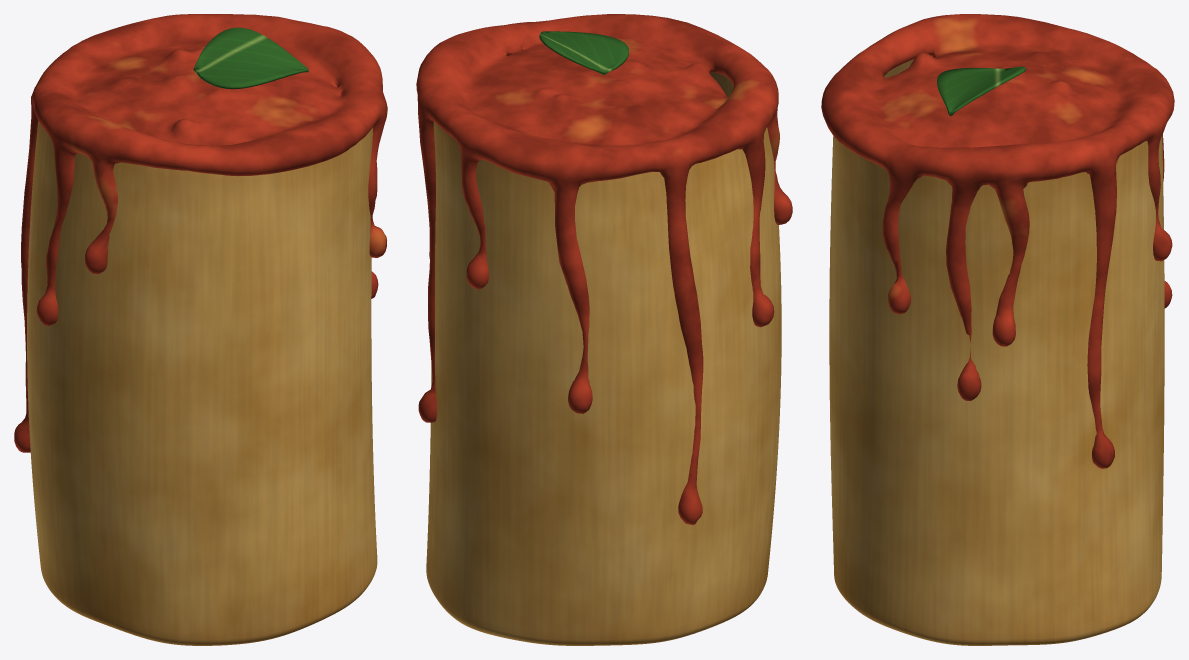
File: ziti.glb
3 renders of one model, left to right at view 1: azimuth 30°, elevation 25°; view 2: azimuth 150°, elevation 25°; view 3: azimuth 270°, elevation 25°, orthographic.
Parts seen in each view (by area): view 1: ZitiBody, Sauce; view 2: ZitiBody, Sauce; view 3: ZitiBody, Sauce.
Boxes of the visible parts, x1,y1,x2,y2 form: ZitiBody: (27, 121, 377, 645); Sauce: (14, 14, 387, 452); ZitiBody: (426, 72, 781, 645); Sauce: (416, 14, 792, 524); ZitiBody: (829, 56, 1164, 645); Sauce: (821, 14, 1174, 468).
Size of the model in its own units: 1.15 by 1.78 by 1.06.
Materials: 2 (2 with a texture image).
